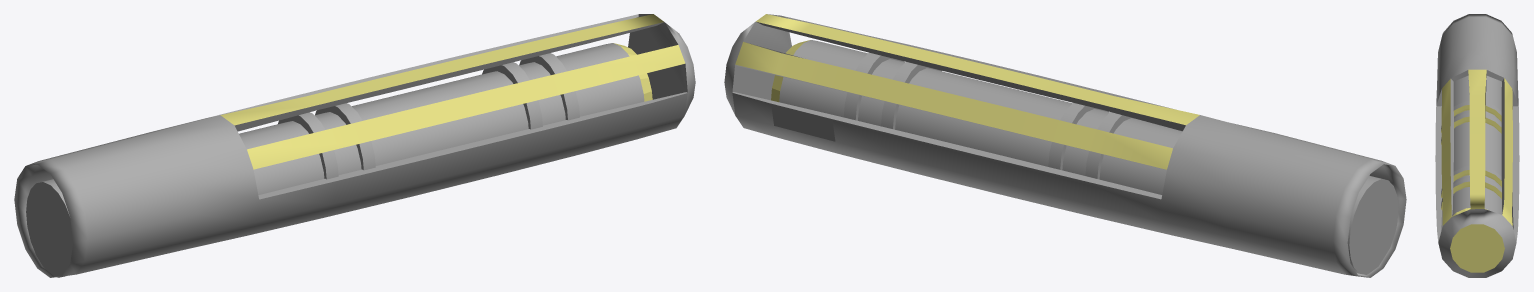
File: GR - Pole.fbx
3 renders of one model, left to right at view 1: azimuth 30°, elevation 25°; view 2: azimuth 150°, elevation 25°; view 3: azimuth 270°, elevation 25°, orthographic. The views are drawn at different scales.
Visible parts, largest first — view 1: pCylinder219; view 2: pCylinder219; view 3: pCylinder219.
Boxes of the visible parts, left/top/right/bottom form: pCylinder219: left=14, top=14, right=695, bottom=277; pCylinder219: left=724, top=14, right=1406, bottom=277; pCylinder219: left=1435, top=14, right=1519, bottom=277.
Size of the model in its own units: 10.92 by 1.87 by 1.93.
